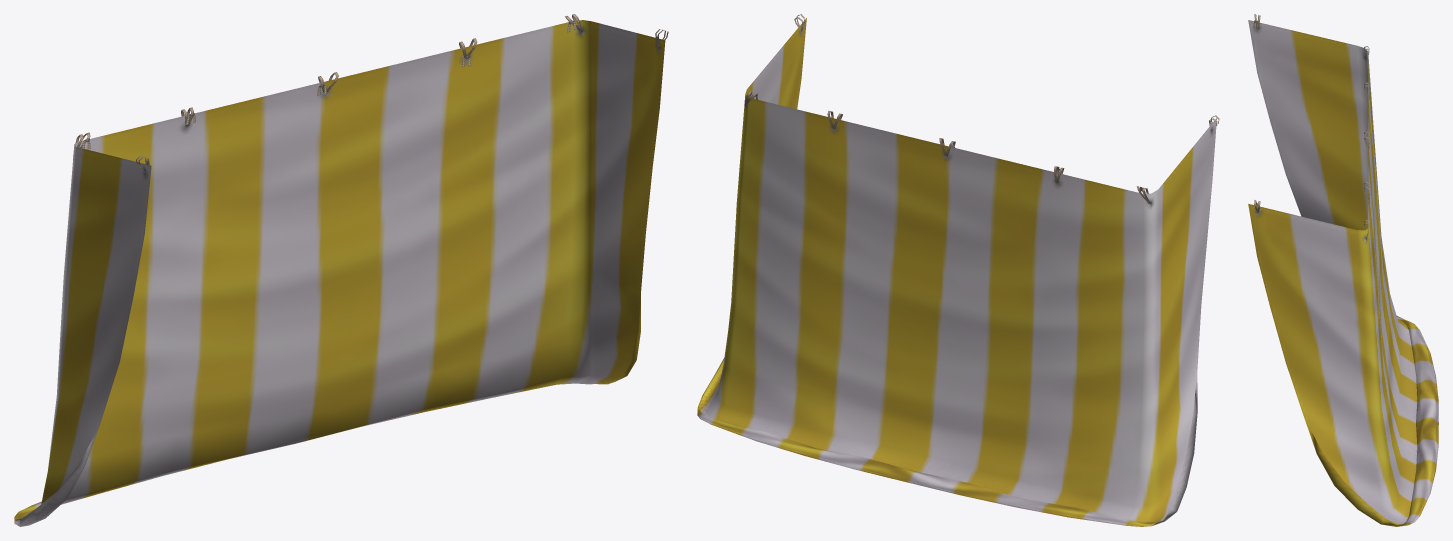
Rendered from jsf_BackSide_s02_c03_t01.fbx.
3 views of the same model, side by side, from view 1: azimuth 30°, elevation 25°; view 2: azimuth 150°, elevation 25°; view 3: azimuth 270°, elevation 25° (orthographic). The views are drawn at different scales.
Parts seen in each view (by area): view 1: jsf_BackSide_s02_c03_t01; view 2: jsf_BackSide_s02_c03_t01; view 3: jsf_BackSide_s02_c03_t01.
Boxes of the visible parts, bbox=[...] form: jsf_BackSide_s02_c03_t01: bbox=[14, 14, 668, 526]; jsf_BackSide_s02_c03_t01: bbox=[697, 14, 1219, 526]; jsf_BackSide_s02_c03_t01: bbox=[1248, 14, 1438, 526].
Size of the model in its own units: 296 by 205 by 112.
